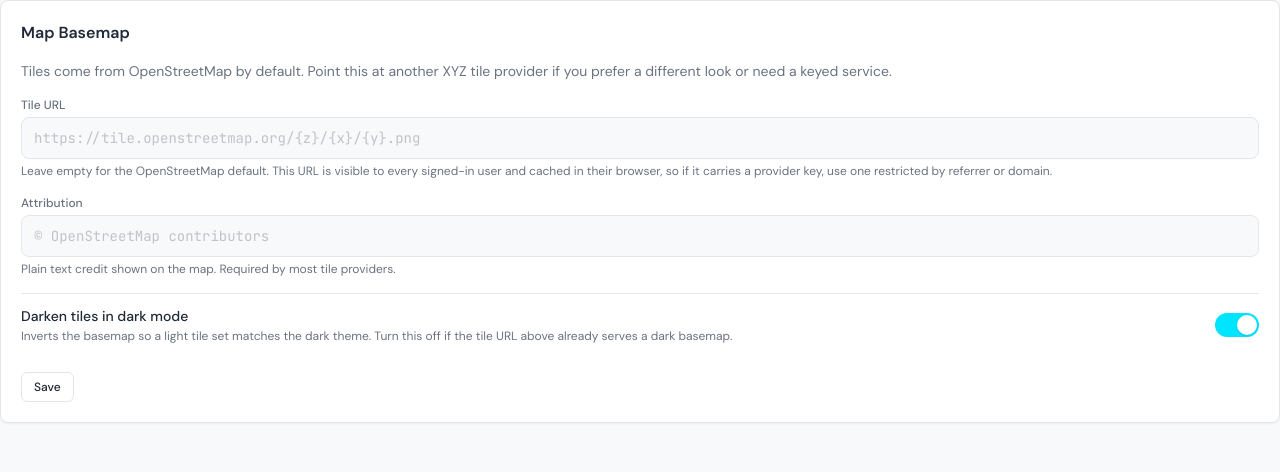
Test: MapSettings › refuses attribution containing markup
The image size is (1280, 472).
Type "<b>Example</b>" into the field labelled "Attribution". click: [640, 236]
box: x1=21 y1=215 x2=1259 y2=257
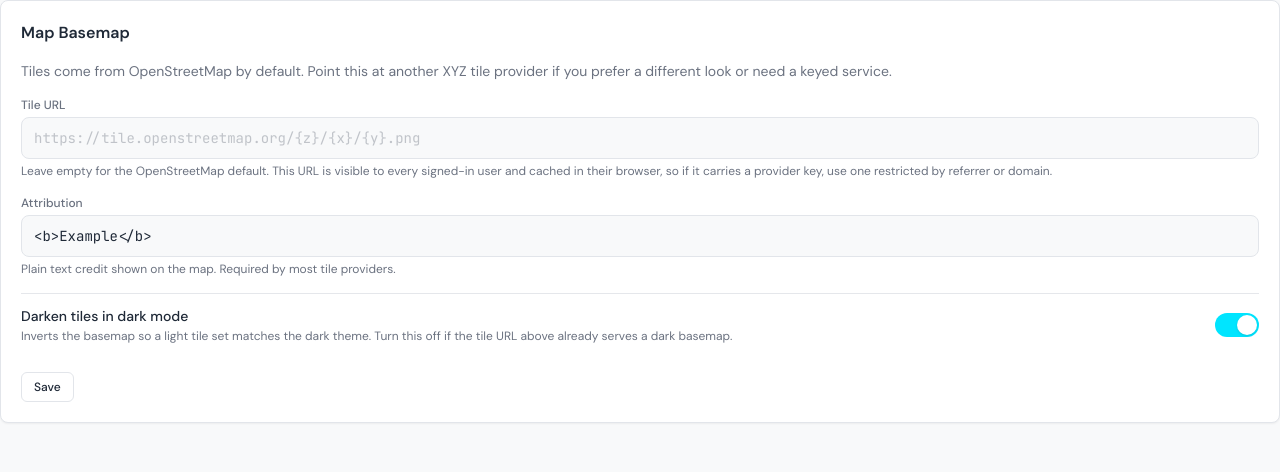
Click the button "Save". click: [47, 387]
box: x1=21 y1=372 x2=74 y2=402
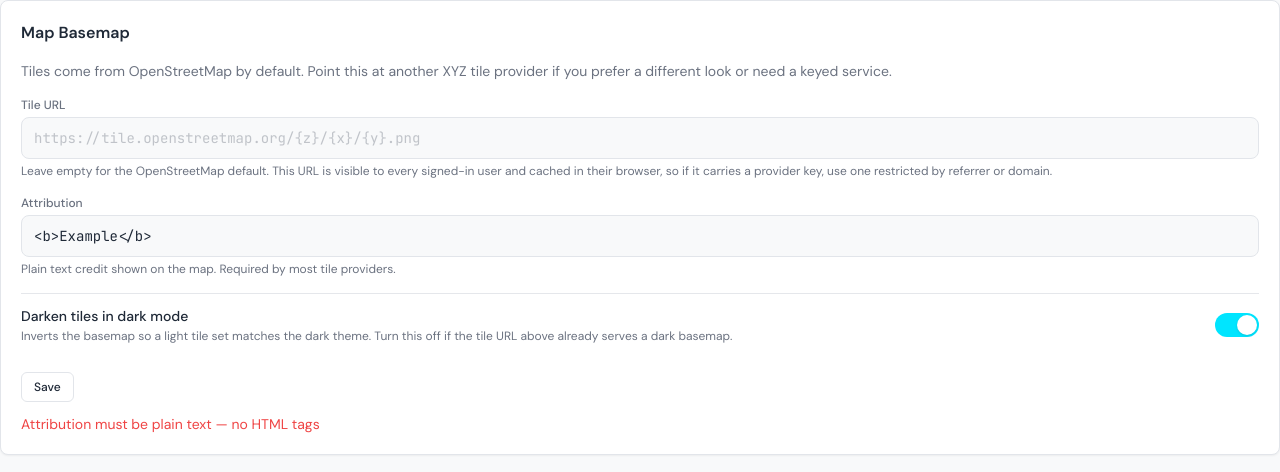
Result: the text "Attribution must be plain text — no HTML tags" is shown at x1=21 y1=415 x2=320 y2=433
